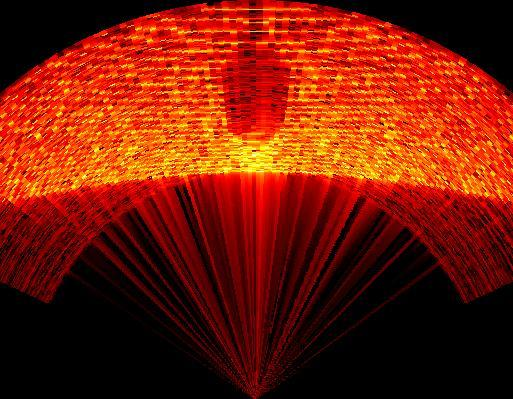box_crate: (220, 34, 296, 153)
